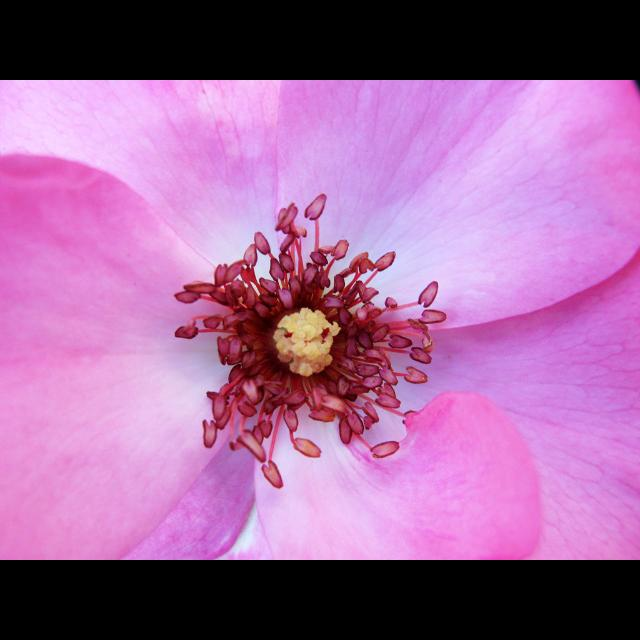Flower: (173, 201, 445, 471)
